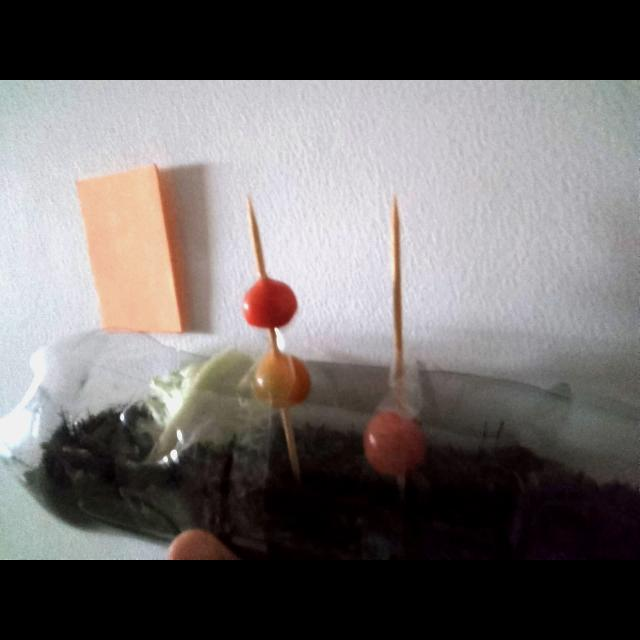card: (78, 164, 188, 332)
fruit_maturation: (253, 351, 310, 409)
fully_grown: (363, 411, 425, 477), (243, 278, 298, 328)
